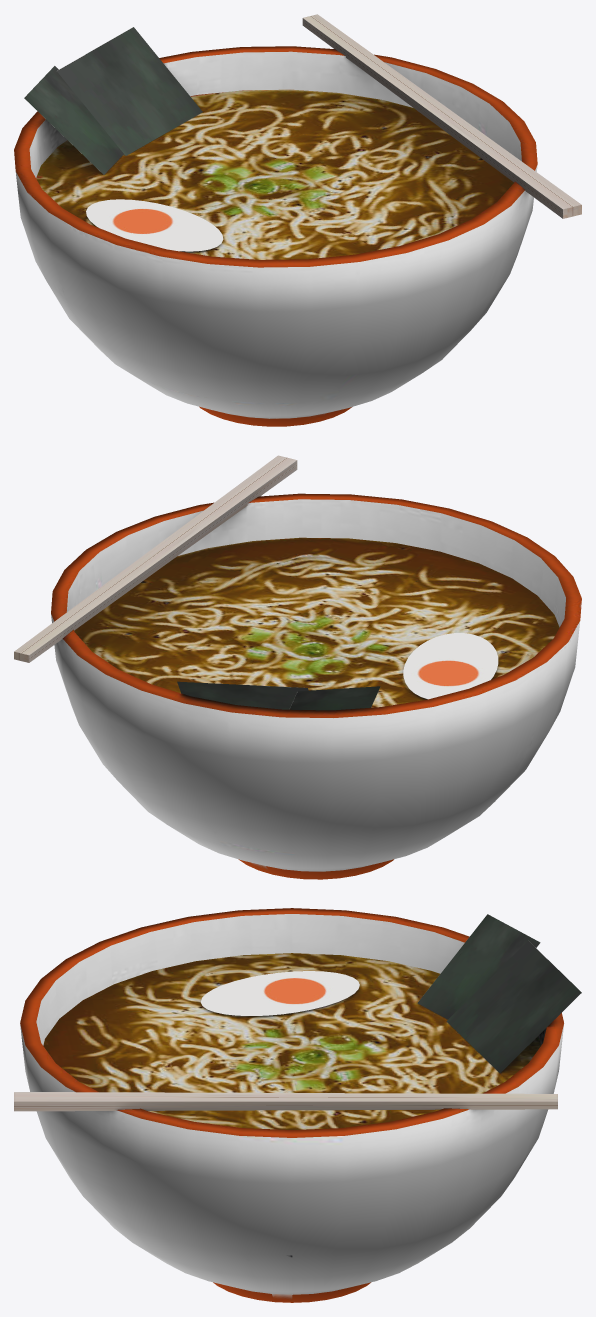
The model's file is ramen.glb.
3 views of the same model, one above another, from view 1: azimuth 30°, elevation 25°; view 2: azimuth 150°, elevation 25°; view 3: azimuth 270°, elevation 25° (orthographic). The views are drawn at different scales.
Parts seen in each view (by area): view 1: bowl, addon, chop; view 2: bowl, addon, chop; view 3: bowl, addon, chop.
Part boxes in pixels (x1,y1,x2,y2): bowl: [14, 46, 537, 426]; addon: [24, 27, 223, 251]; chop: [302, 14, 581, 218]; bowl: [51, 493, 581, 879]; addon: [177, 633, 498, 710]; chop: [14, 455, 297, 662]; bowl: [20, 908, 564, 1302]; addon: [200, 914, 581, 1072]; chop: [14, 1092, 557, 1111].
Bounding box in the file's own units: 0.206 × 0.1133 × 0.215.
Materials: 3 (3 with a texture image).
